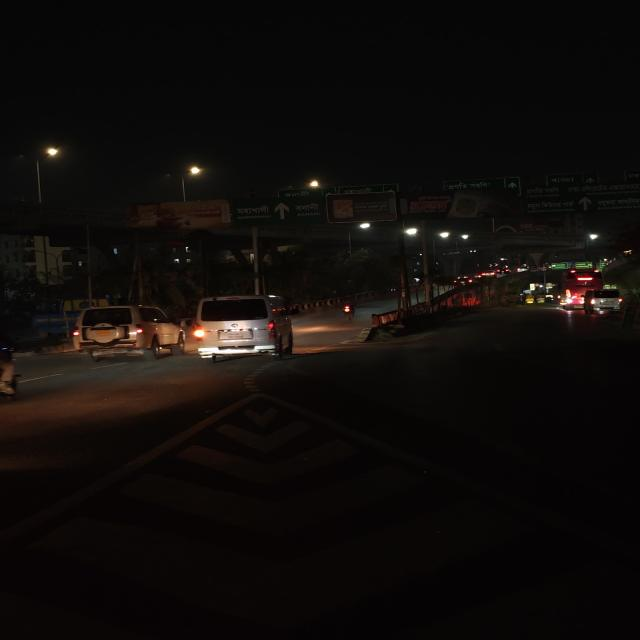bus: (560, 269, 599, 309)
car: (186, 294, 297, 362), (67, 304, 184, 361), (583, 286, 626, 316)
motorcycle: (336, 298, 358, 322)
